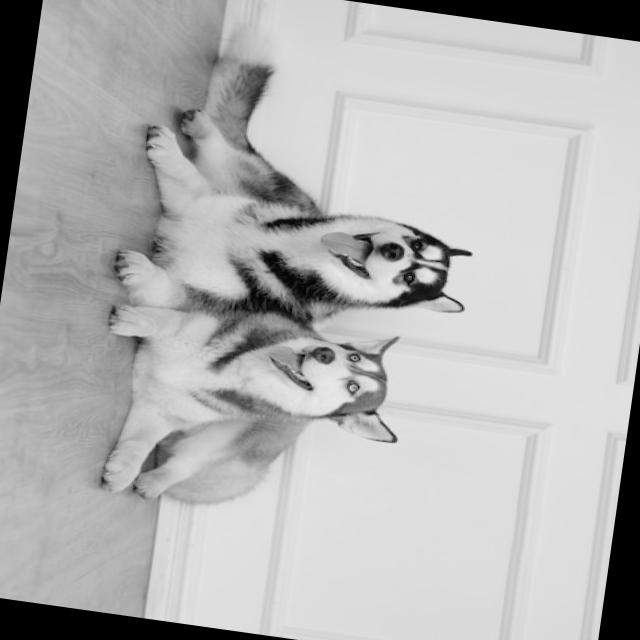laying down: (106, 11, 502, 342), (76, 288, 448, 554)
